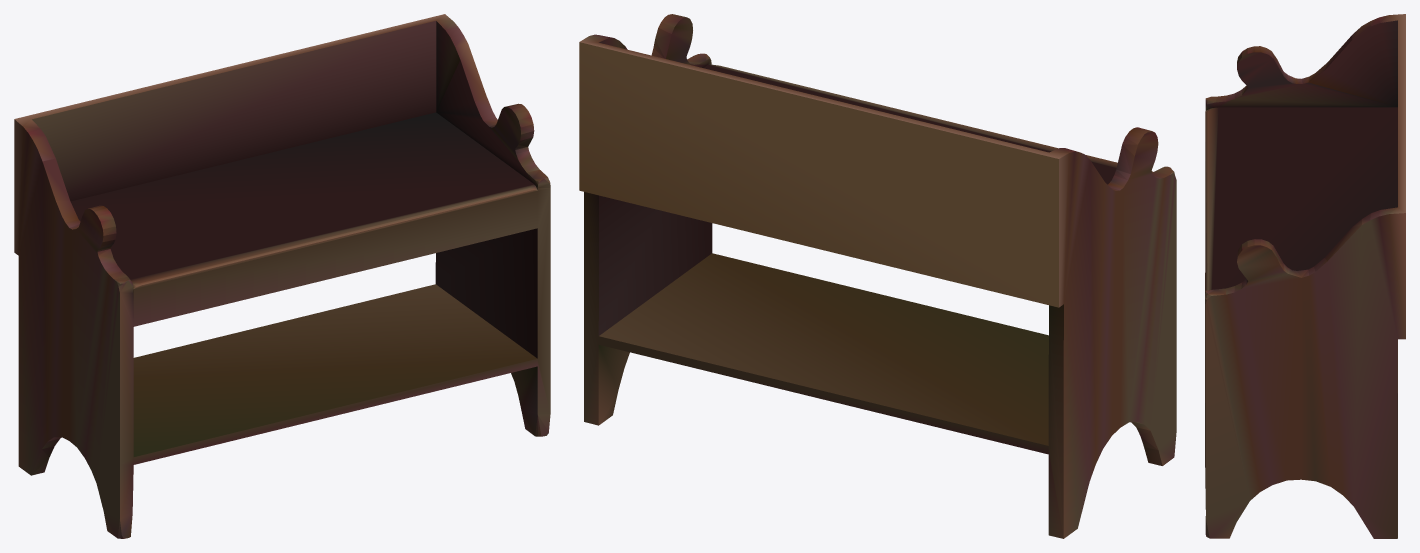
Rendered from painted_wooden_bench.glb.
The picture shows the model from 3 angles, left to right: view 1: azimuth 30°, elevation 25°; view 2: azimuth 150°, elevation 25°; view 3: azimuth 270°, elevation 25°; orthographic projection. The views are drawn at different scales.
Parts seen in each view (by area): view 1: painted_wooden_bench; view 2: painted_wooden_bench; view 3: painted_wooden_bench.
Boxes of the visible parts, x1,y1,x2,y2 form: painted_wooden_bench: (14,14,550,538); painted_wooden_bench: (579,14,1176,538); painted_wooden_bench: (1205,14,1405,538).
Bounding box in the file's own units: 0.55 × 0.4199 × 0.2344.
